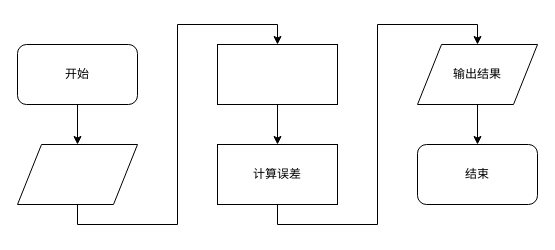
The diagram is 555 pixels wide and 250 high, and some of its shapes have lost their labels. Here are the shapes that lost their labels. From the top down, the centre of each, then its label:
the point at 277,74: 计算基函数并求和
the point at 77,174: 输入数据点和x
